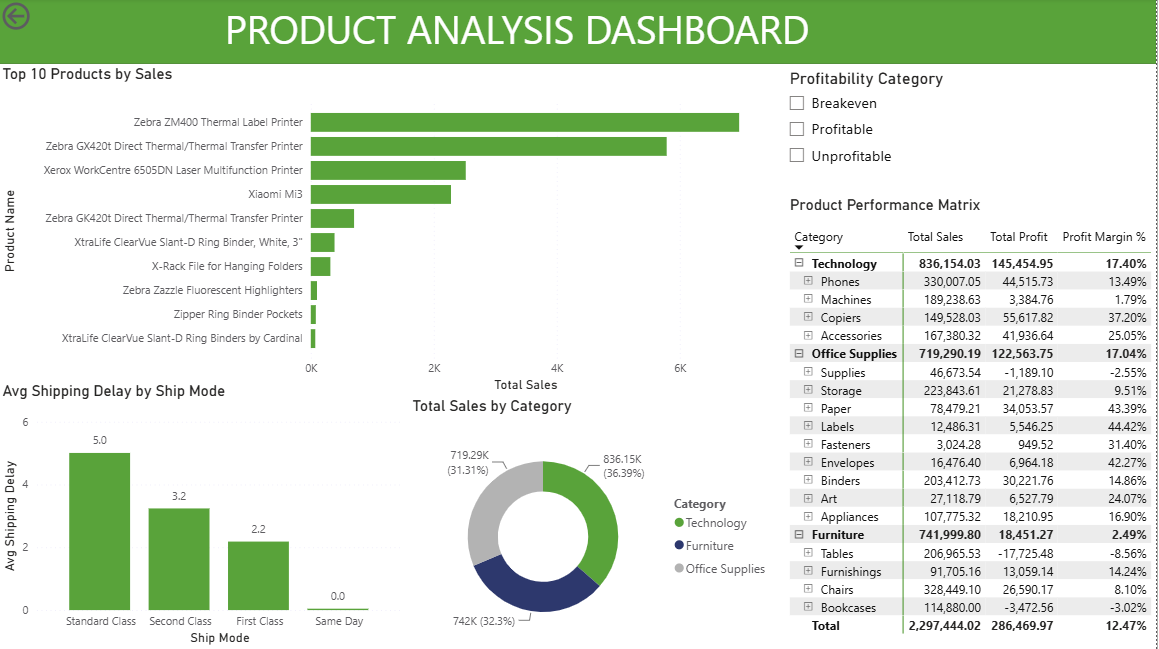

This screenshot's page, from the dashboard's own definition file:
{"tool":"powerbi","page":{"name":"Product Analysis","canvas":[1280,720],"ordinal":1},"visuals":[{"type":"clusteredBarChart","title":"Top 10 Products by Sales","fields":{"Category":["Orders.Product Name"],"Y":["_Measures.Total Sales"]},"box":[0,73.2,833.4,367.4],"z":0},{"type":"donutChart","fields":{"Y":["_Measures.Total Sales"],"Category":["Orders.Category"]},"box":[453,440.6,408.8,279],"z":1000},{"type":"pivotTable","title":"Product Performance Matrix","fields":{"Rows":["Orders.Category","Orders.Sub-Category","Orders.Product Name"],"Values":["_Measures.Total Sales","_Measures.Total Profit","_Measures.Profit Margin %"]},"box":[870.4,217.9,409.9,501.7],"z":2000},{"type":"shape","box":[0,0,1280.3,73.2],"z":3000},{"type":"slicer","fields":{"Values":["Orders.Profitability Category"]},"box":[861.8,73.2,410.2,134],"z":4000},{"type":"clusteredColumnChart","fields":{"Y":["_Measures.Avg Shipping Delay"],"Category":["Orders.Ship Mode"]},"box":[0,423.6,452.3,296.1],"z":5000},{"type":"textbox","box":[245.8,0,726.5,73.2],"z":6000},{"type":"actionButton","box":[0,0,100,40],"z":6001}]}

Visuals, with their boxes in screenshot pixels (x1, y1, x2, y2), scaled from the page's 1280x720 canvas onto the 1159x649 screenshot:
"Top 10 Products by Sales" clusteredBarChart: x1=0, y1=66, x2=755, y2=397
donutChart - _Measures.Total Sales x Orders.Category: x1=410, y1=397, x2=780, y2=648
"Product Performance Matrix" pivotTable: x1=788, y1=196, x2=1158, y2=648
shape: x1=0, y1=0, x2=1158, y2=66
slicer - Orders.Profitability Category: x1=780, y1=66, x2=1152, y2=187
clusteredColumnChart - _Measures.Avg Shipping Delay x Orders.Ship Mode: x1=0, y1=382, x2=410, y2=648
textbox: x1=223, y1=0, x2=880, y2=66
actionButton: x1=0, y1=0, x2=91, y2=36
